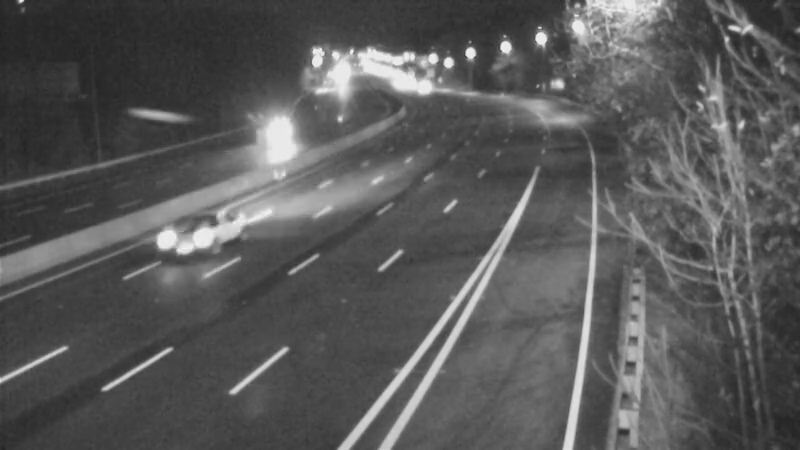vehicle: (158, 204, 238, 284), (396, 67, 446, 117), (257, 111, 307, 161)
